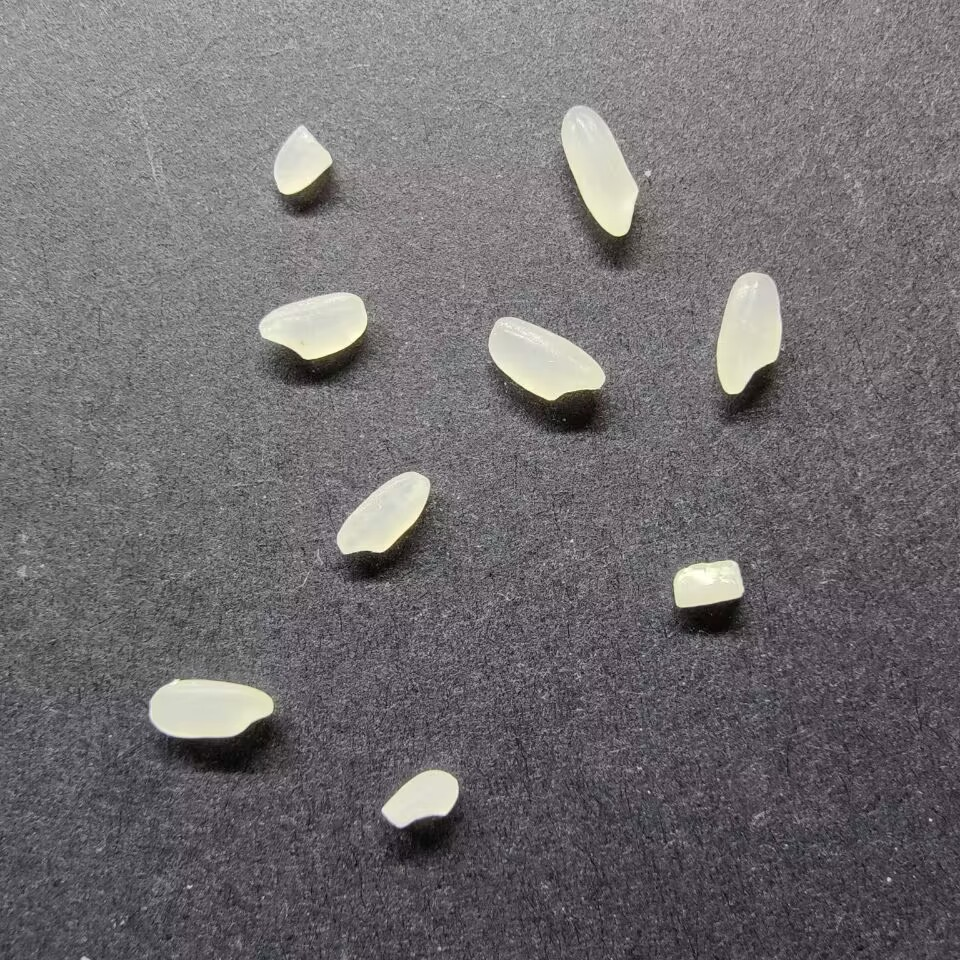broken: (380, 769, 460, 828), (271, 123, 335, 195), (671, 558, 746, 610)
rice: (560, 103, 641, 238), (488, 315, 607, 401), (715, 268, 783, 396), (334, 469, 432, 557), (147, 676, 274, 741), (256, 291, 370, 360)
